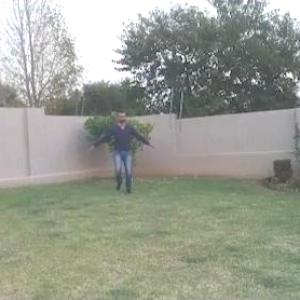land: (80, 102, 151, 199)
